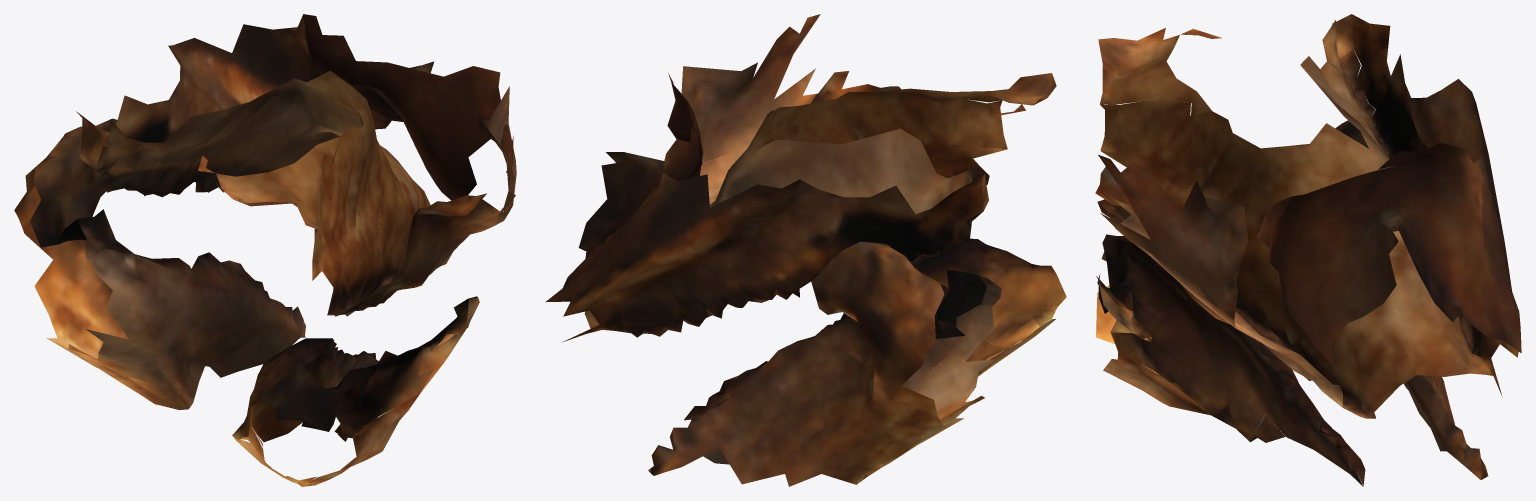
Rendered from Triceratops_Jugal_L.fbx.
3 renders of one model, left to right at view 1: azimuth 30°, elevation 25°; view 2: azimuth 150°, elevation 25°; view 3: azimuth 270°, elevation 25°, orthographic. The views are drawn at different scales.
Visible parts, largest first — view 1: Triceratops_Jugal_L; view 2: Triceratops_Jugal_L; view 3: Triceratops_Jugal_L.
Boxes of the visible parts, x1=… form: Triceratops_Jugal_L: x1=14, y1=14, x2=516, y2=486; Triceratops_Jugal_L: x1=545, y1=14, x2=1066, y2=486; Triceratops_Jugal_L: x1=1095, y1=14, x2=1521, y2=486.
Size of the model in its own units: 0.1193 by 0.0995 by 0.1151.
Materials: 1 (1 with a texture image).
